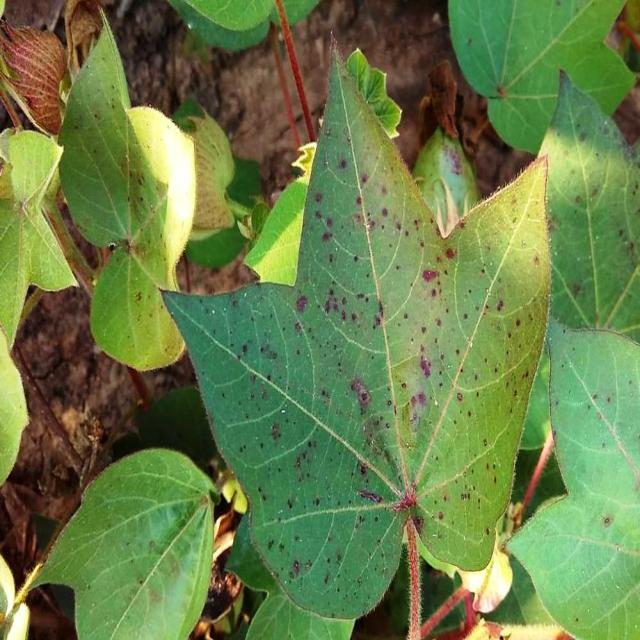Bacterial Blight: (329, 185, 446, 521)
